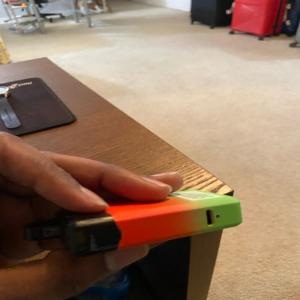Swift-E-Ciggirate: (25, 189, 245, 260)
